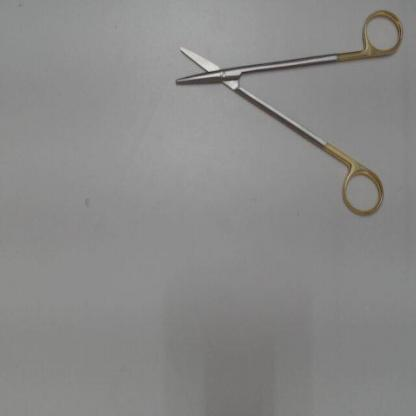7 Metzenbaum Scissors: (171, 4, 407, 222)
